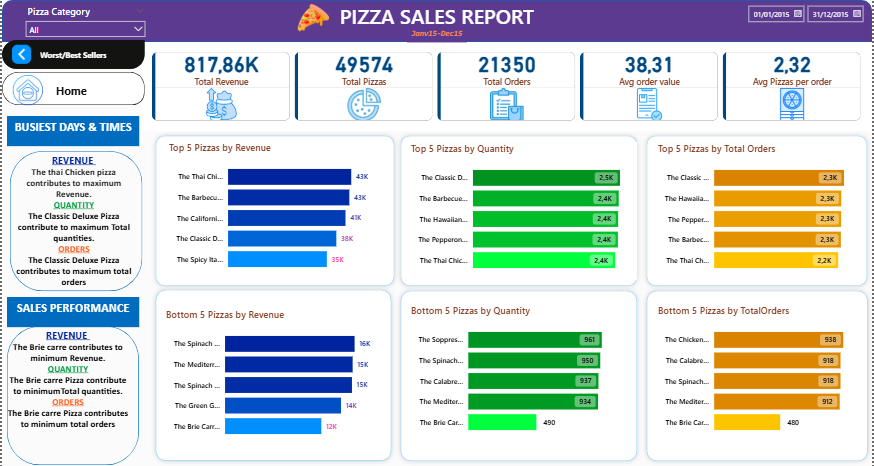

The dashboard page shown, as its layout file describes it:
{"tool":"powerbi","page":{"name":"Worst/Best Sellers","canvas":[1500,820],"ordinal":1},"visuals":[{"type":"cardVisual","fields":{"Data":["pizza_sales_excel_file.Total Revenue","pizza_sales_excel_file.Total Pizzas","pizza_sales_excel_file.Total Orders","pizza_sales_excel_file.Avg order value","pizza_sales_excel_file.Avg Pizzas per order"]},"box":[241.2,72.5,1258.8,153.8],"z":0},{"type":"shape","box":[0,0,1500,72.5],"z":1000},{"type":"shape","box":[257.5,491.2,422.5,311.2],"z":2000},{"type":"textbox","box":[698.6,42.9,102.9,30],"z":3000},{"type":"image","box":[494.3,4.3,84.3,54.3],"z":4000},{"type":"shape","box":[13.3,260,228.3,241.7],"z":5000},{"type":"textbox","box":[8.3,200,228.3,51.7],"z":6000},{"type":"textbox","box":[16.7,260,213.3,298.3],"z":7000},{"type":"shape","box":[8.8,562.5,227.5,240],"z":8000},{"type":"textbox","box":[8.3,511.7,228.3,51.7],"z":9000},{"type":"textbox","box":[0,562.5,227.5,240],"z":10000},{"type":"slicer","fields":{"Values":["pizza_sales_excel_file.pizza_category"]},"box":[31.2,3.8,226.2,66.2],"z":11000},{"type":"slicer","fields":{"Values":["pizza_sales_excel_file.order_date"]},"box":[1273.8,0,226.2,63.8],"z":12000},{"type":"shape","box":[680,226.2,423.8,275],"z":13000},{"type":"shape","box":[1103.8,226.2,396.2,275],"z":14000},{"type":"shape","box":[257.5,226.2,427.5,275],"z":15000},{"type":"shape","box":[680,492.5,423.8,310],"z":16000},{"type":"shape","box":[1103.8,492.5,397.5,310],"z":17000},{"type":"barChart","title":"Top 5 Pizzas by Revenue","fields":{"Category":["pizza_sales_excel_file.pizza_name"],"Y":["pizza_sales_excel_file.Total Revenue"]},"box":[282.5,242.5,375,237.5],"z":18000},{"type":"barChart","title":"Bottom 5 Pizzas by Revenue","fields":{"Category":["pizza_sales_excel_file.pizza_name"],"Y":["pizza_sales_excel_file.Total Revenue"]},"box":[277.5,531.2,375,237.5],"z":19000},{"type":"barChart","title":"Top 5 Pizzas by Quantity","fields":{"Category":["pizza_sales_excel_file.pizza_name"],"Y":["pizza_sales_excel_file.Total Pizzas"]},"box":[700,245,395,237.5],"z":20000},{"type":"barChart","title":"Bottom 5 Pizzas by Quantity","fields":{"Category":["pizza_sales_excel_file.pizza_name"],"Y":["pizza_sales_excel_file.Total Pizzas"]},"box":[700,523.8,363.8,237.5],"z":21000},{"type":"barChart","title":"Top 5 Pizzas by  Total Orders","fields":{"Category":["pizza_sales_excel_file.pizza_name"],"Y":["pizza_sales_excel_file.Total Orders"]},"box":[1125,245,356.2,237.5],"z":22000},{"type":"barChart","title":"Bottom 5 Pizzas by  TotalOrders","fields":{"Category":["pizza_sales_excel_file.pizza_name"],"Y":["pizza_sales_excel_file.Total Orders"]},"box":[1125,523.8,356.2,237.5],"z":23000},{"type":"pageNavigator","box":[0,69.7,246.1,50],"z":23001},{"type":"pageNavigator","box":[0,123.7,246.1,57.9],"z":23002},{"type":"image","box":[16.7,43.3,33.3,101.7],"z":23003},{"type":"image","box":[8.3,130,71.7,51.7],"z":23004}]}

Visuals, with their boxes in screenshot pixels (x1, y1, x2, y2), scaled from the page's 1500x820 canvas onto the 874x466 screenshot:
cardVisual - pizza_sales_excel_file.Total Revenue x pizza_sales_excel_file.Total Pizzas: (left=141, top=41, right=873, bottom=129)
shape: (left=0, top=0, right=873, bottom=41)
shape: (left=150, top=279, right=396, bottom=456)
textbox: (left=407, top=24, right=467, bottom=41)
image: (left=288, top=2, right=337, bottom=33)
shape: (left=8, top=148, right=141, bottom=285)
textbox: (left=5, top=114, right=138, bottom=143)
textbox: (left=10, top=148, right=134, bottom=317)
shape: (left=5, top=320, right=138, bottom=456)
textbox: (left=5, top=291, right=138, bottom=320)
textbox: (left=0, top=320, right=133, bottom=456)
slicer - pizza_sales_excel_file.pizza_category: (left=18, top=2, right=150, bottom=40)
slicer - pizza_sales_excel_file.order_date: (left=742, top=0, right=873, bottom=36)
shape: (left=396, top=129, right=643, bottom=285)
shape: (left=643, top=129, right=873, bottom=285)
shape: (left=150, top=129, right=399, bottom=285)
shape: (left=396, top=280, right=643, bottom=456)
shape: (left=643, top=280, right=873, bottom=456)
"Top 5 Pizzas by Revenue" barChart: (left=165, top=138, right=383, bottom=273)
"Bottom 5 Pizzas by Revenue" barChart: (left=162, top=302, right=380, bottom=437)
"Top 5 Pizzas by Quantity" barChart: (left=408, top=139, right=638, bottom=274)
"Bottom 5 Pizzas by Quantity" barChart: (left=408, top=298, right=620, bottom=433)
"Top 5 Pizzas by  Total Orders" barChart: (left=656, top=139, right=863, bottom=274)
"Bottom 5 Pizzas by  TotalOrders" barChart: (left=656, top=298, right=863, bottom=433)
pageNavigator: (left=0, top=40, right=143, bottom=68)
pageNavigator: (left=0, top=70, right=143, bottom=103)
image: (left=10, top=25, right=29, bottom=82)
image: (left=5, top=74, right=47, bottom=103)
